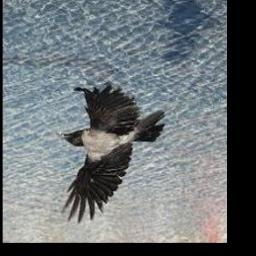Crow: (59, 86, 166, 225)
